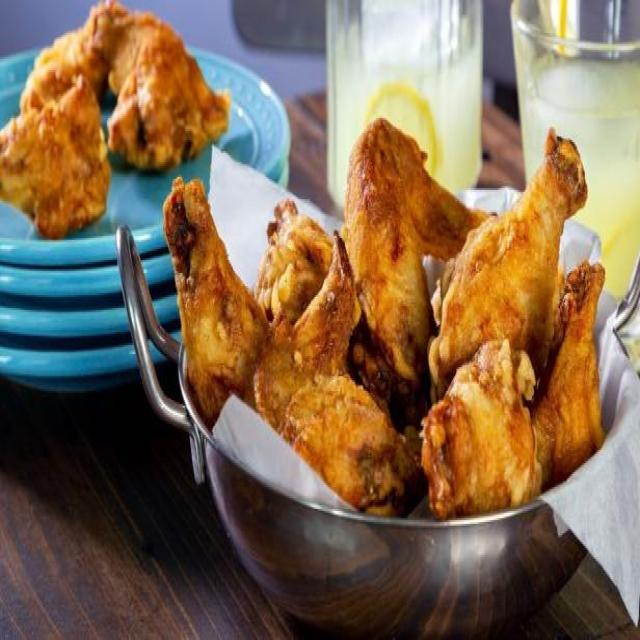Frango: (161, 105, 609, 522), (0, 0, 231, 238)
